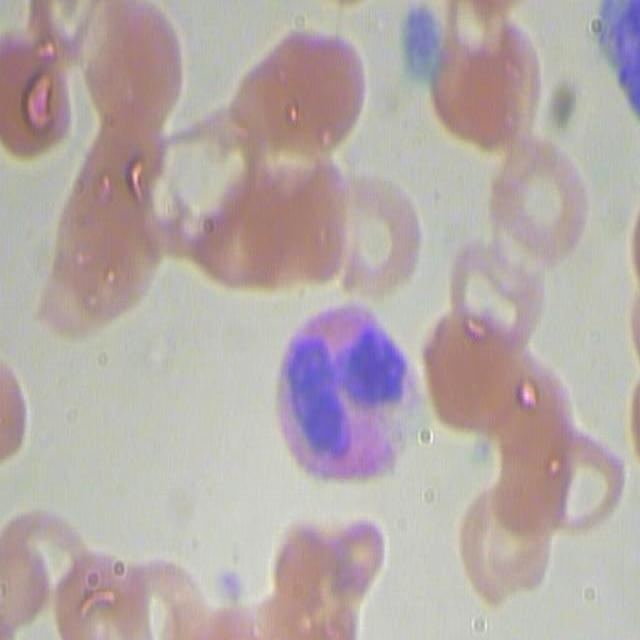RBC: (202, 161, 358, 277), (60, 117, 141, 330), (130, 121, 250, 254), (224, 34, 375, 138), (265, 531, 391, 640), (491, 138, 600, 259), (74, 9, 188, 122), (454, 496, 570, 603), (443, 238, 558, 344), (335, 174, 422, 305), (426, 39, 534, 142), (424, 327, 542, 412), (3, 499, 80, 629), (0, 31, 73, 159), (115, 547, 208, 640), (548, 434, 626, 544), (492, 394, 579, 474), (439, 3, 533, 72), (26, 0, 102, 80), (0, 336, 31, 477)
WBC: (276, 291, 421, 493)
platelets: (395, 4, 458, 93), (217, 564, 248, 600)
